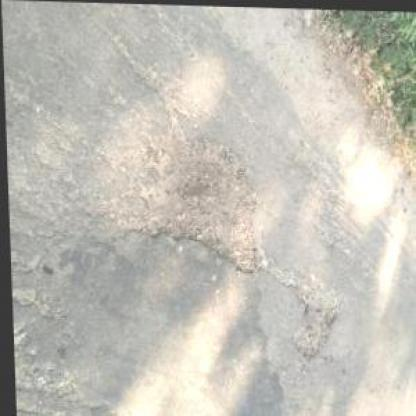pothole: (130, 128, 263, 276), (290, 277, 341, 362)
